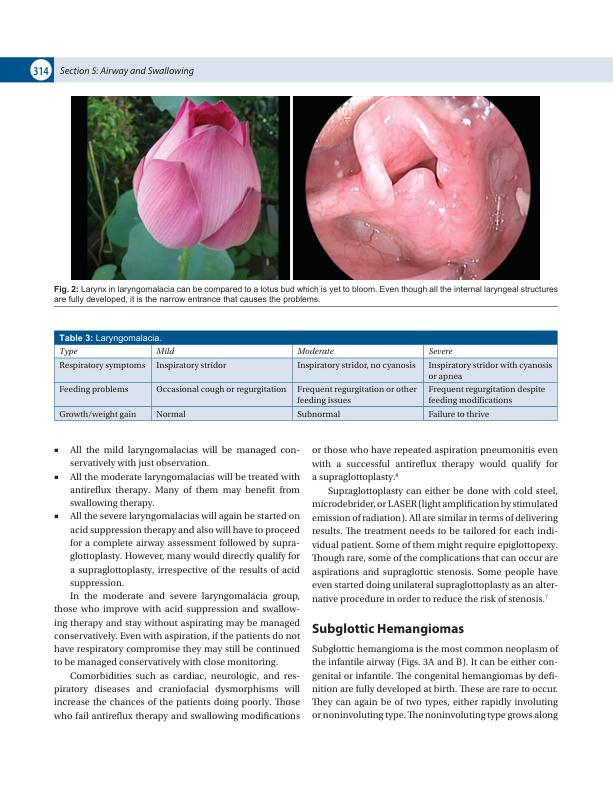caption: (53, 285, 559, 305), (59, 333, 162, 343)
header: (59, 66, 195, 76)
image: (293, 95, 540, 280), (70, 95, 290, 280)
list: (51, 445, 301, 589)
sub-section-heading: (311, 622, 465, 637)
table: (54, 344, 558, 421)
text: (311, 444, 559, 605), (53, 591, 301, 722), (311, 644, 560, 722)
